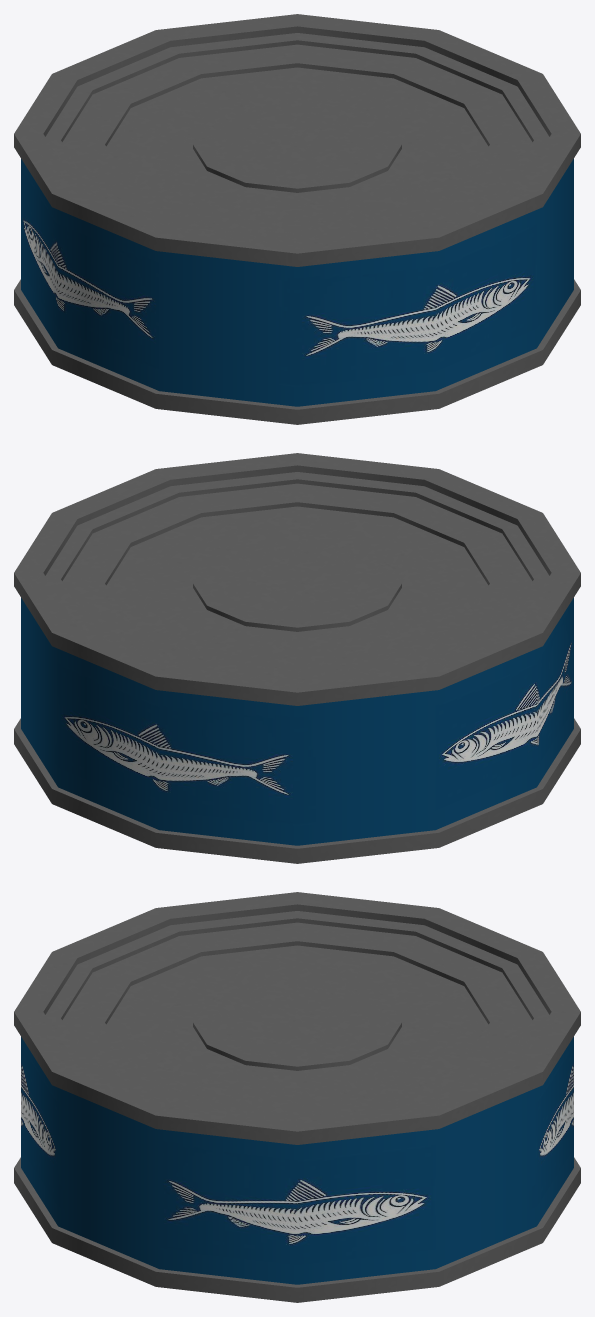
Rendered from small_canned_fish.fbx.
3 renders of one model, top to bottom at view 1: azimuth 30°, elevation 25°; view 2: azimuth 150°, elevation 25°; view 3: azimuth 270°, elevation 25°, orthographic.
Visible parts, largest first — view 1: small_canned_fish; view 2: small_canned_fish; view 3: small_canned_fish.
Part boxes in pixels (x1=…): small_canned_fish: x1=14, y1=14, x2=580, y2=424; small_canned_fish: x1=14, y1=453, x2=580, y2=863; small_canned_fish: x1=14, y1=892, x2=580, y2=1302.
Bounding box in the file's own units: 12 × 4 × 12.
1 material, 1 textured.
